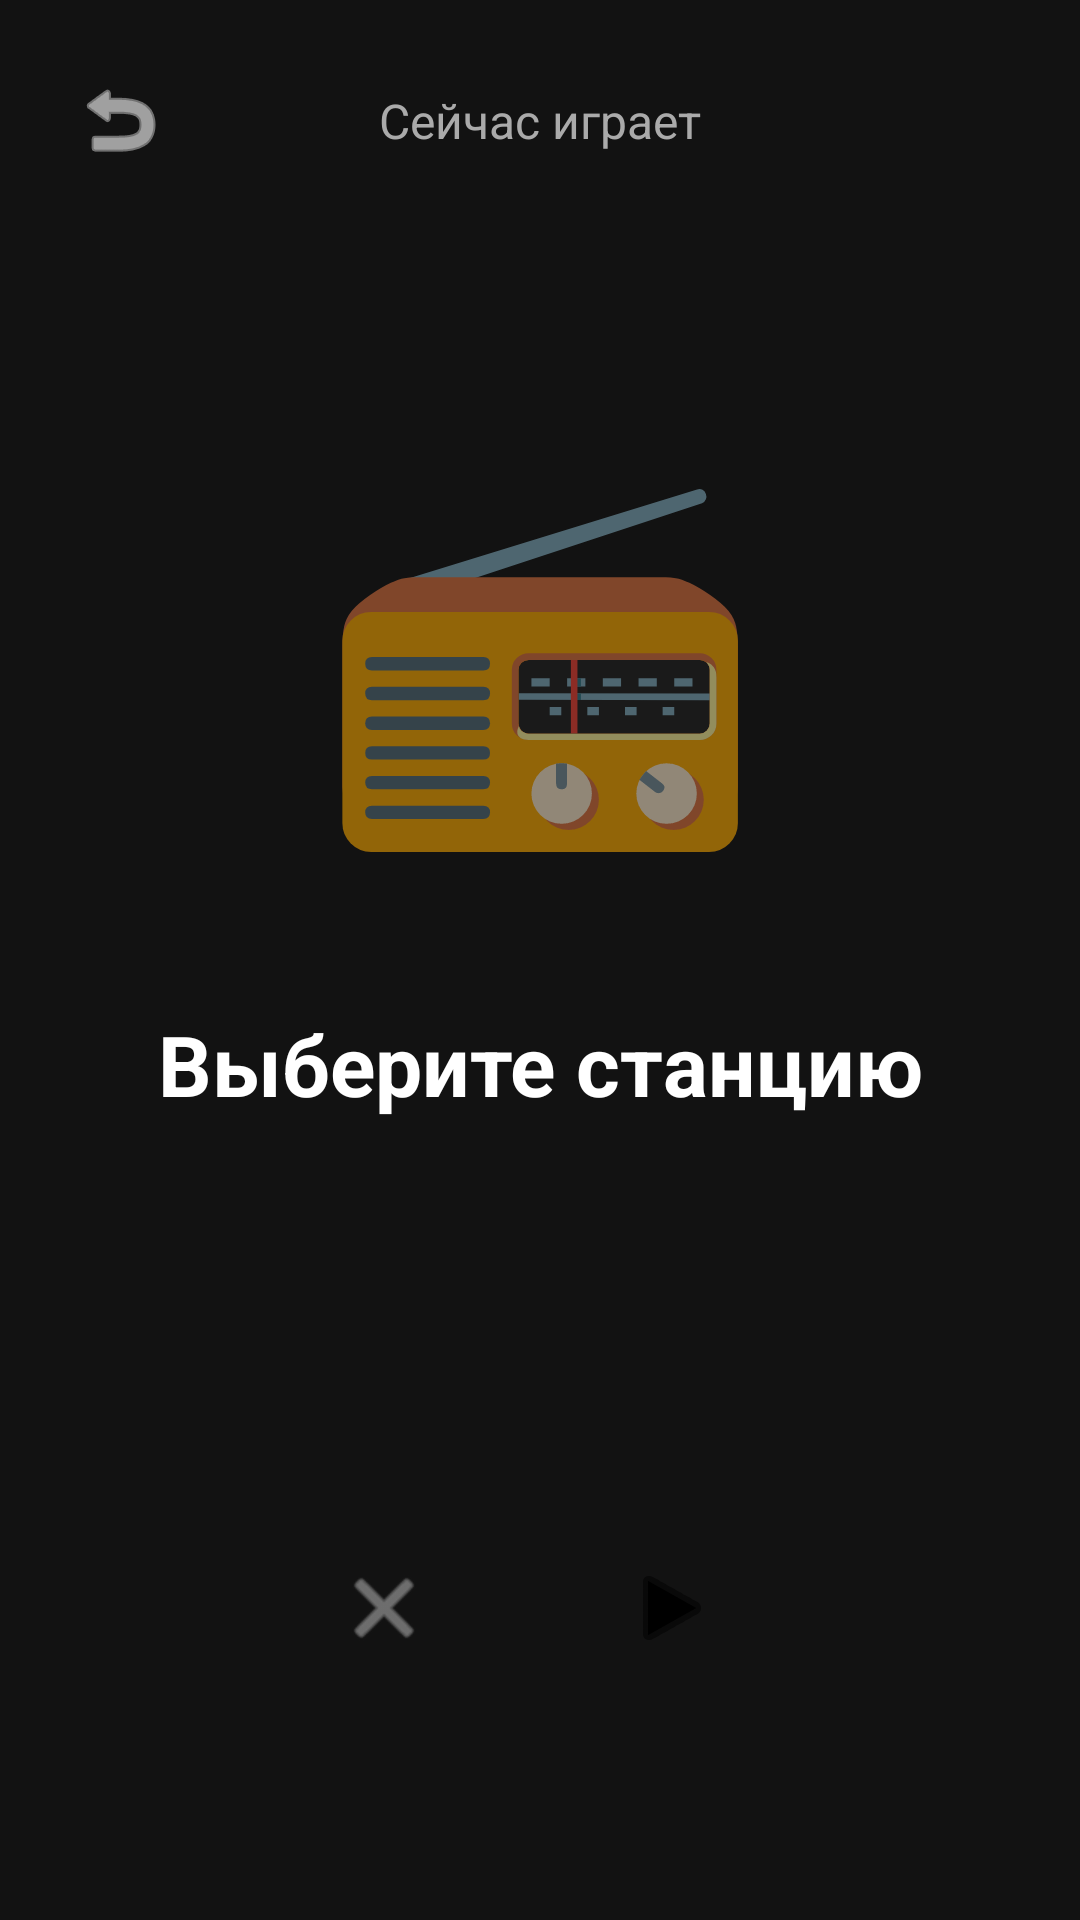

Locate icon controls on the screen. Image size 1080 x 1920, boxes as (x1, y1, x2, y2).
close clear cancel: (354, 1578, 414, 1638)
revert: (87, 89, 156, 152)
